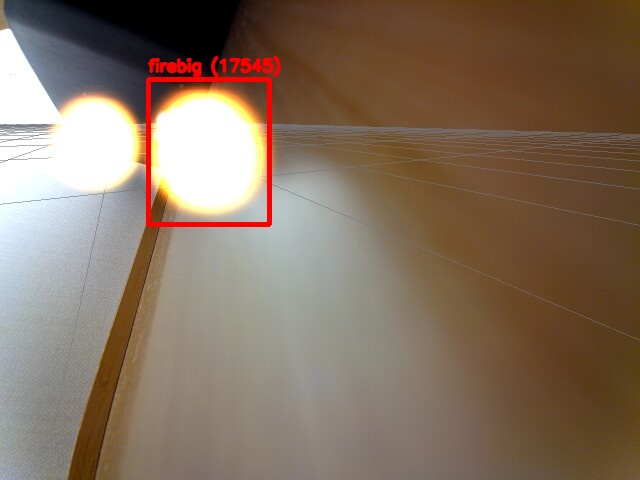firebig: (148, 79, 269, 224)
